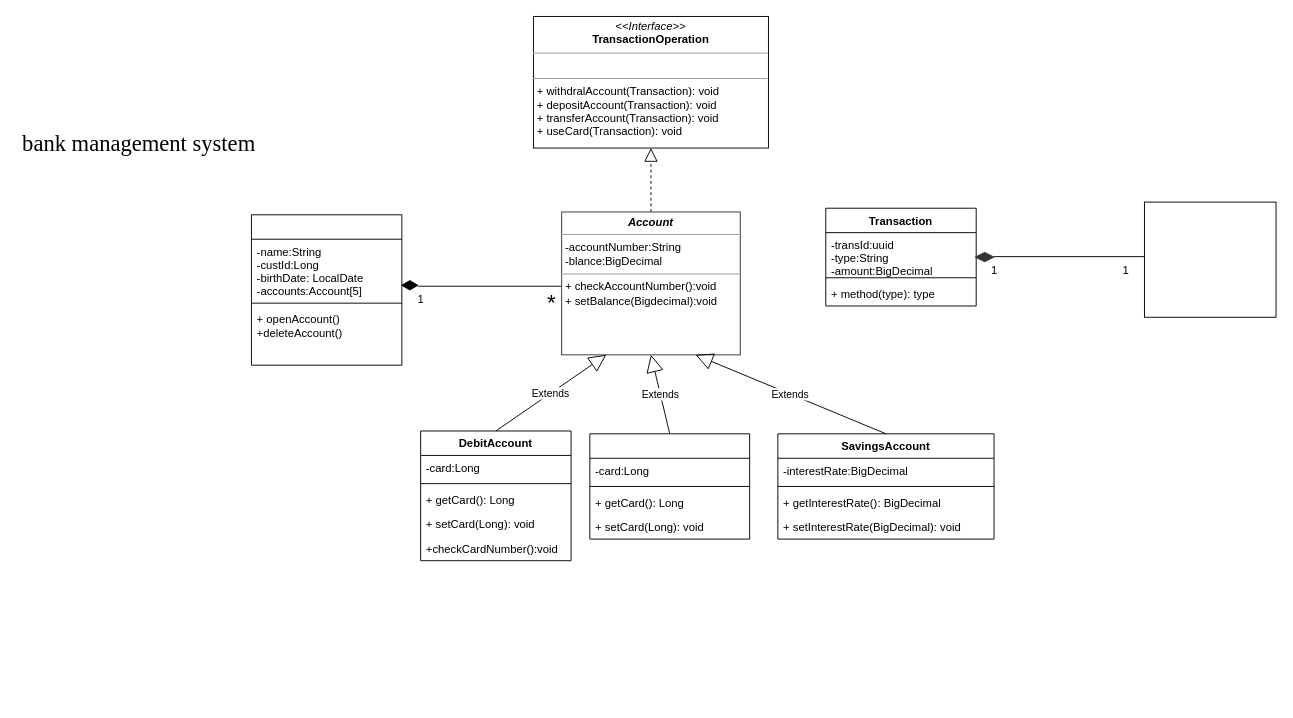
This 1293x718 diagram has some shape labels left out. Here are the shapes that lost their labels. From the top down, the box of each, then its label:
(1144, 201, 1276, 317): <<enumeration>> TransTypeEnum withdrawal deposit transfer card
(251, 214, 402, 365): Customer
(589, 433, 750, 539): CreditAccount
